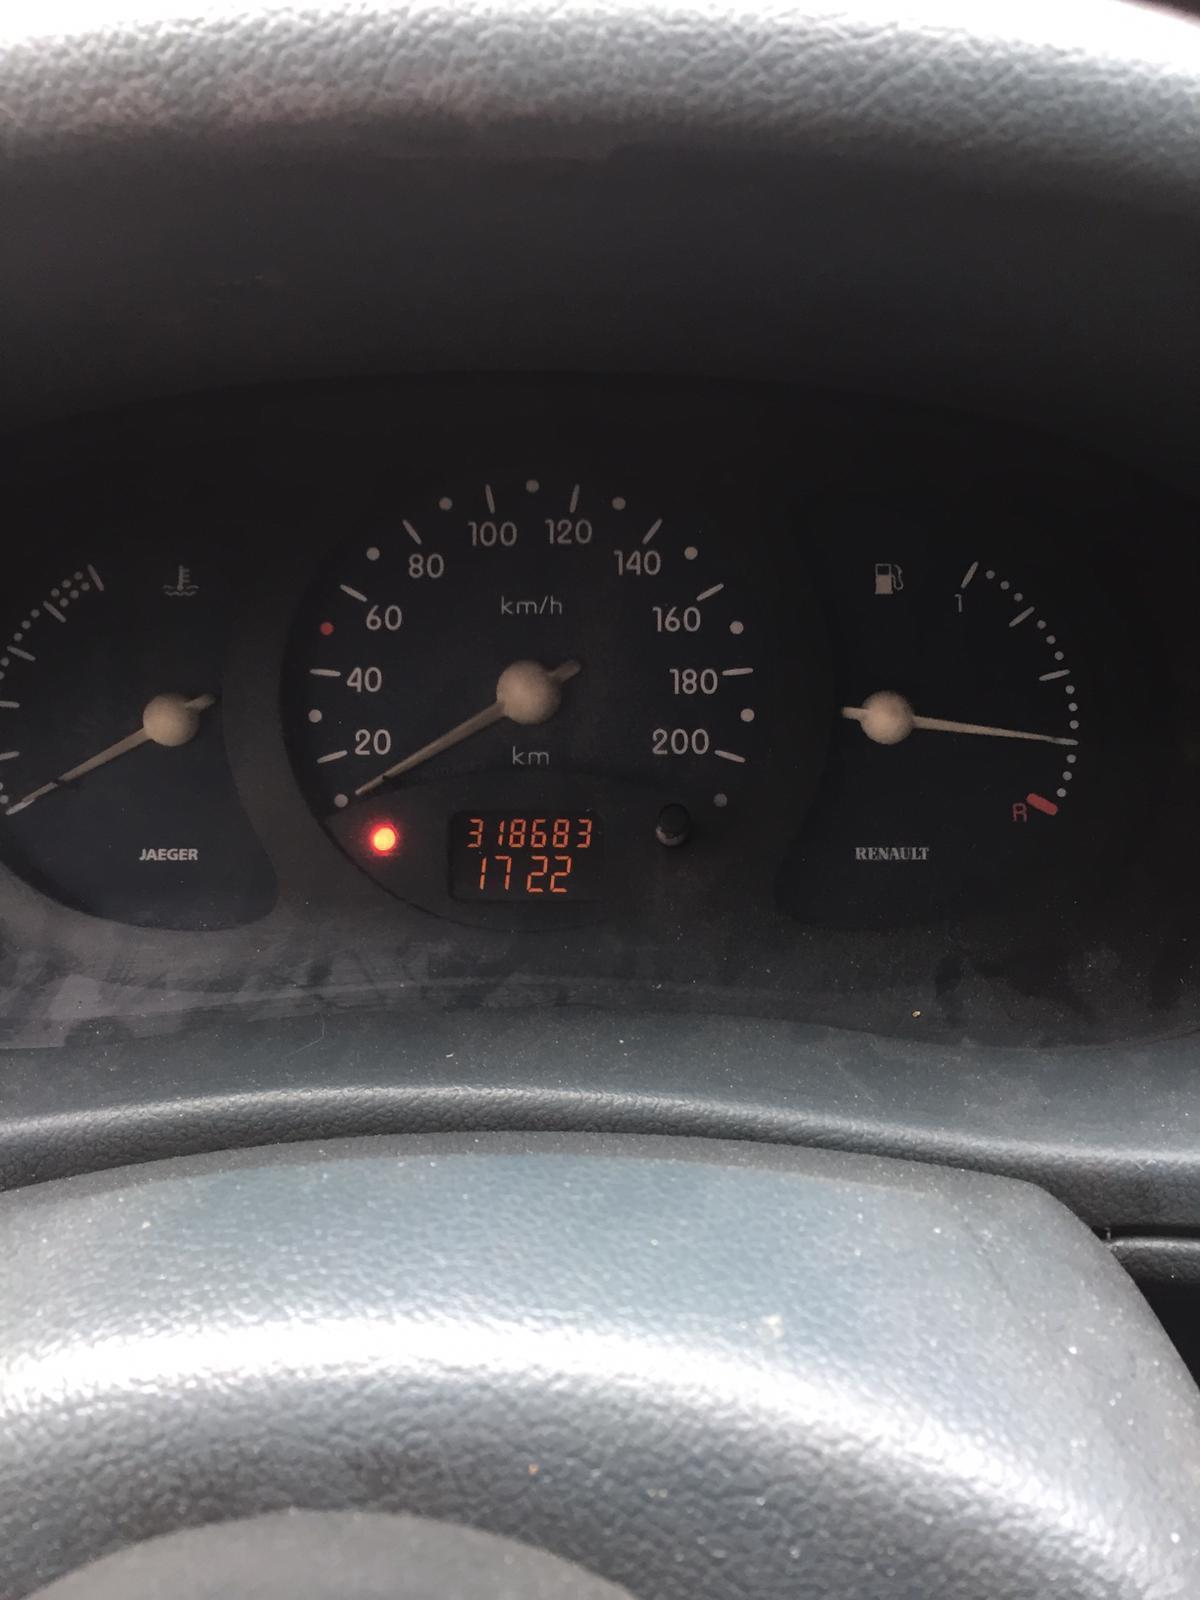1: (478, 855, 487, 889), (497, 818, 505, 847)
2: (550, 855, 574, 892), (524, 855, 548, 892)
3: (465, 816, 484, 848), (575, 818, 592, 848)
6: (529, 816, 547, 848)
7: (493, 855, 512, 891)
8: (551, 818, 570, 848), (508, 816, 526, 847)
odometer: (444, 805, 613, 908)
